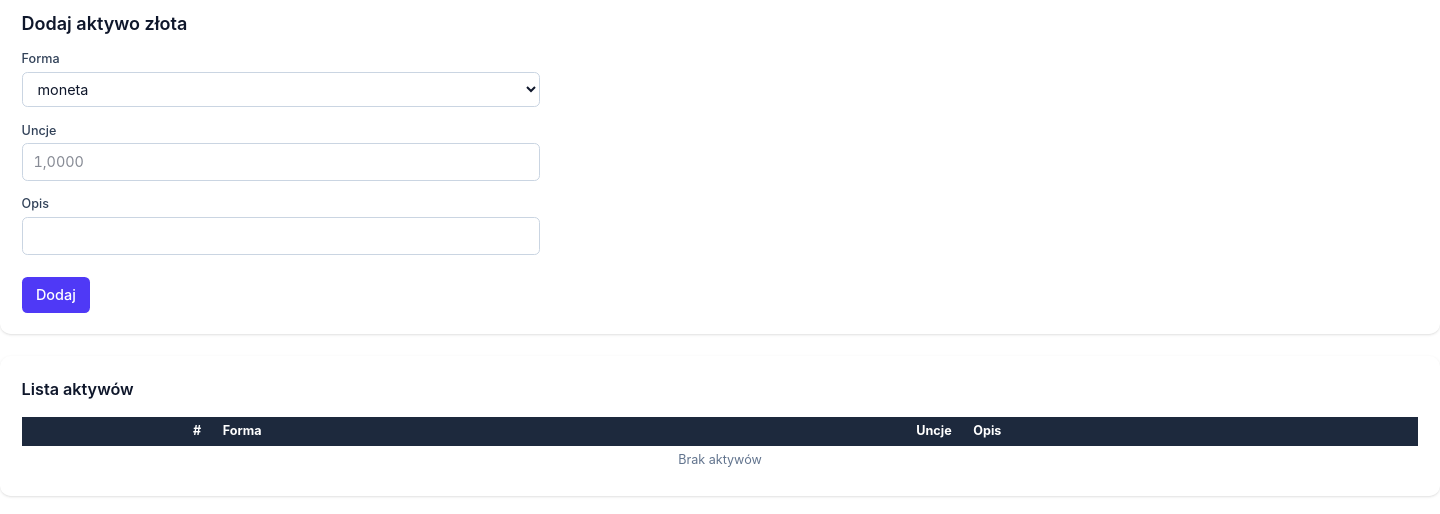
Test: GoldAssetsPage › adds an asset and starts a new, empty form
The width and height of the screenshot is (1440, 514).
Select "sztabka" in the dropdown labelled "Forma" at (281, 90), box left=22, top=72, right=540, bottom=107
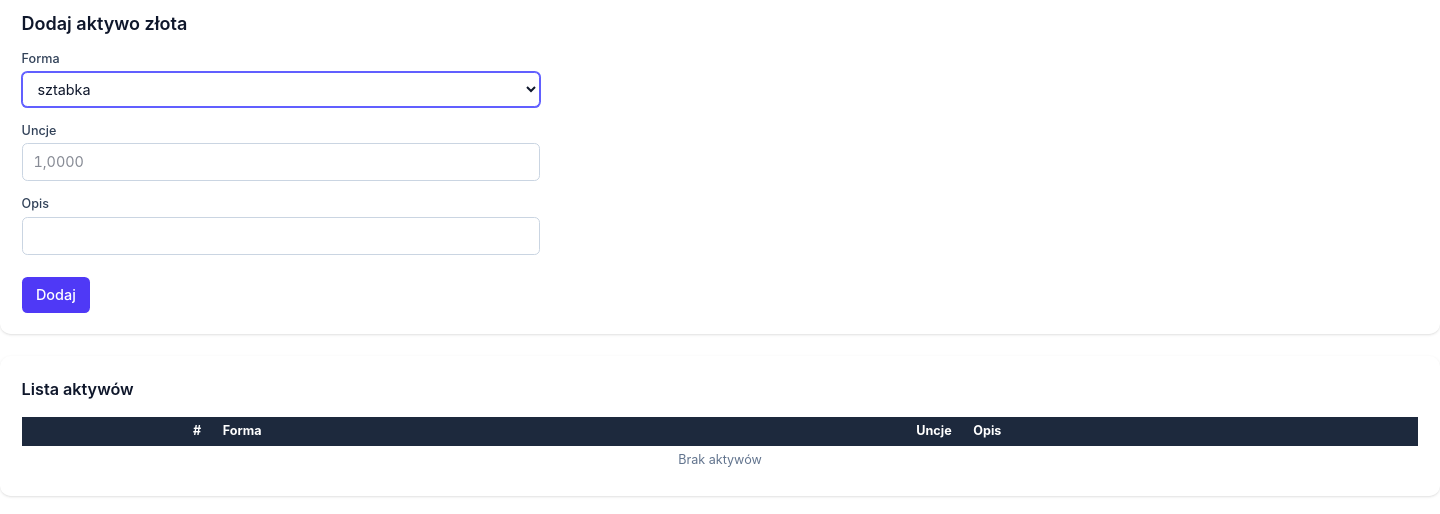
Type "3,2151" into the field labelled "Uncje" at (281, 162), box left=22, top=143, right=540, bottom=181
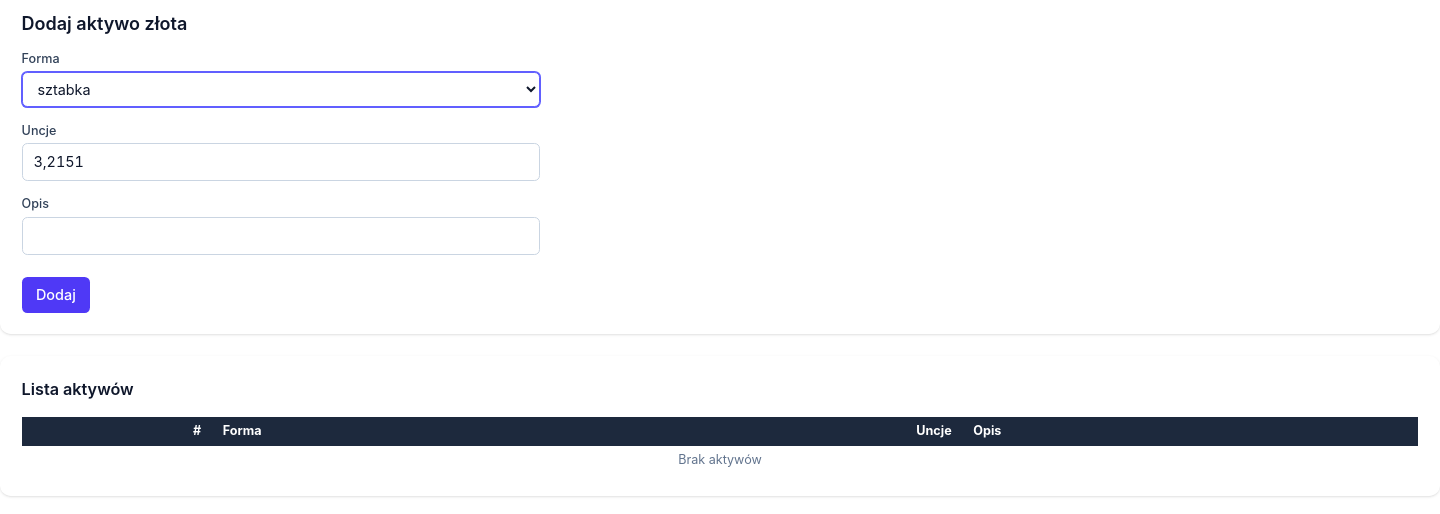
Type "Sztabka 100 g" into the field labelled "Opis" at (281, 236), box left=22, top=217, right=540, bottom=255
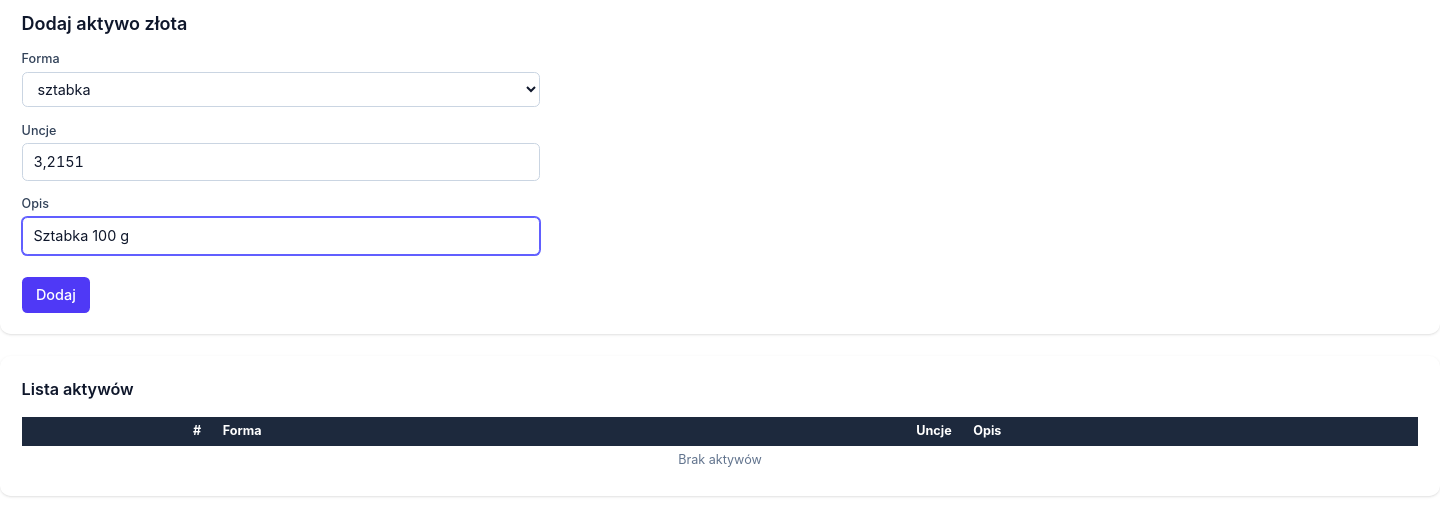
Click the button "Dodaj" at (56, 294), box left=22, top=276, right=90, bottom=312
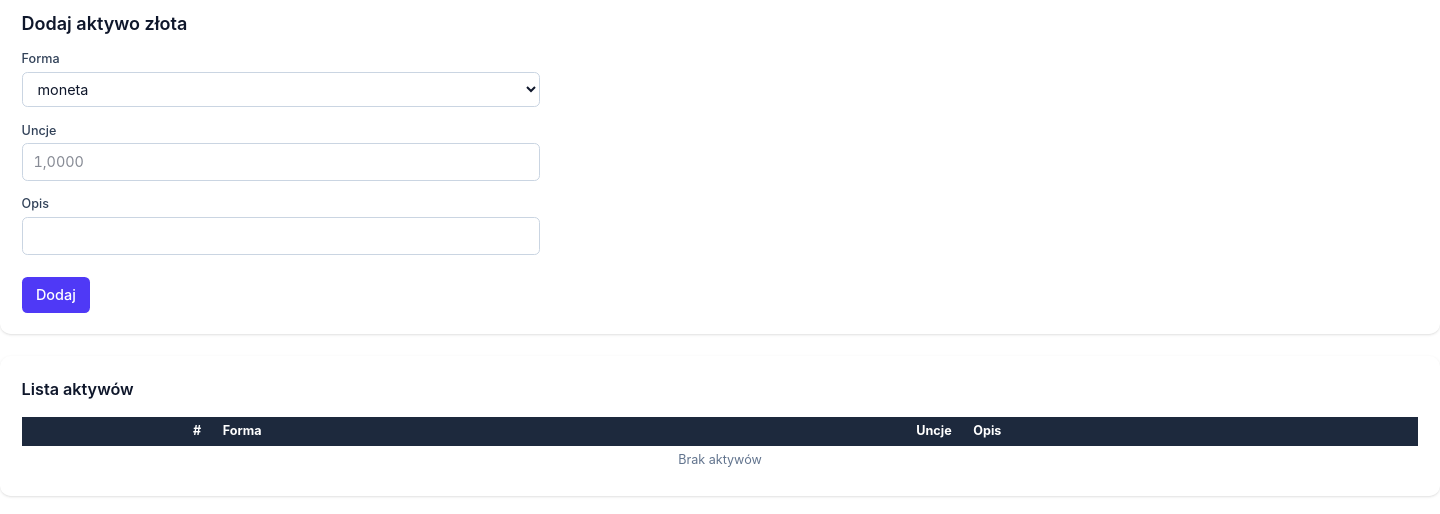
Now the field labelled "Opis" is empty, box left=22, top=217, right=540, bottom=255
Now the field labelled "Uncje" is empty, box left=22, top=143, right=540, bottom=181
